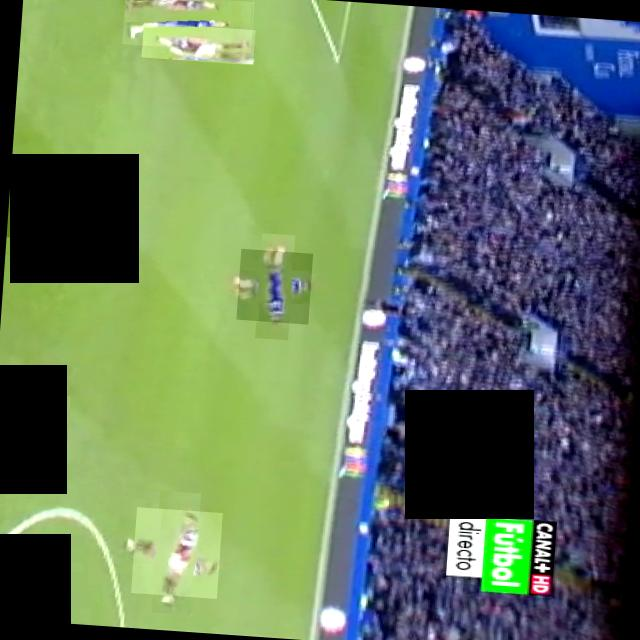referee: (0, 380, 66, 452)
soccer-player: (130, 506, 222, 598), (121, 0, 253, 52), (234, 248, 312, 324), (140, 22, 254, 64), (0, 570, 63, 623), (5, 177, 22, 238)
